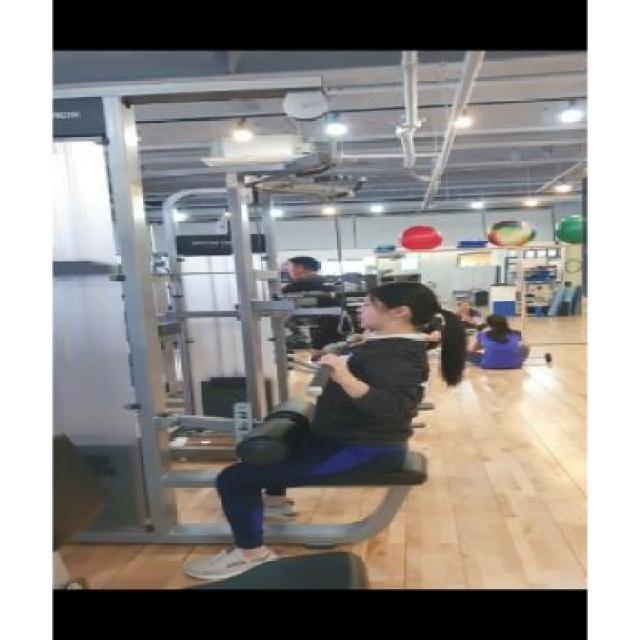Lat Pull Down: (9, 71, 517, 597)
